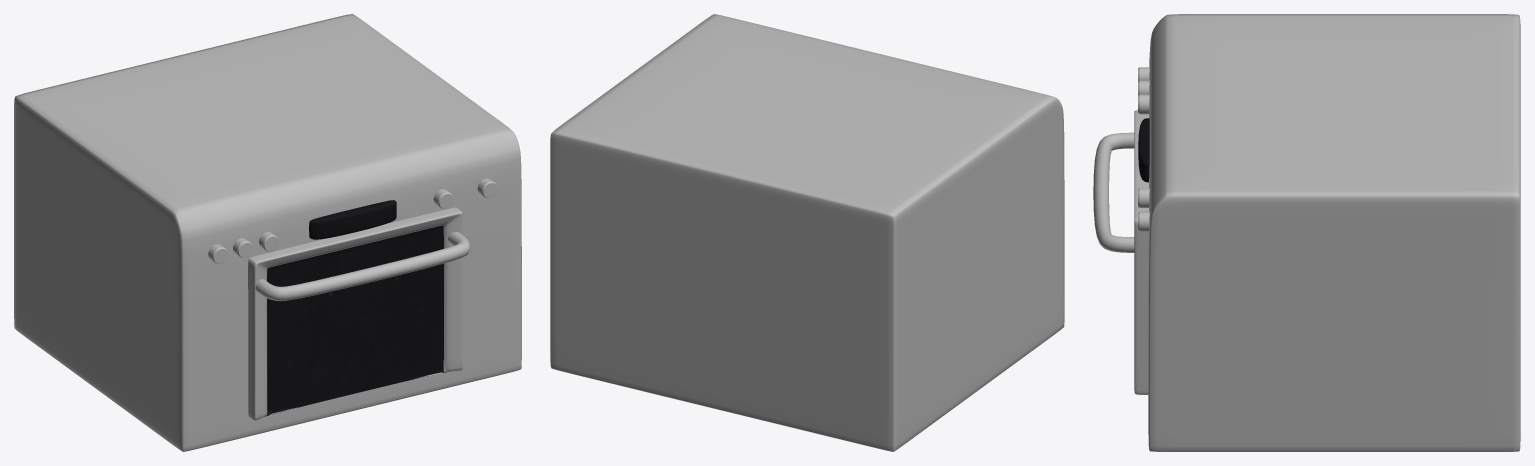
Rendered from stove.FBX.
3 renders of one model, left to right at view 1: azimuth 30°, elevation 25°; view 2: azimuth 150°, elevation 25°; view 3: azimuth 270°, elevation 25°, orthographic. The views are drawn at different scales.
Visible parts, largest first — view 1: Box020; view 2: Box020; view 3: Box020.
Part boxes in pixels (x1=…): Box020: x1=14, y1=14, x2=521, y2=451; Box020: x1=550, y1=14, x2=1064, y2=451; Box020: x1=1093, y1=14, x2=1520, y2=451.
Size of the model in its own units: 156 by 103 by 154.
